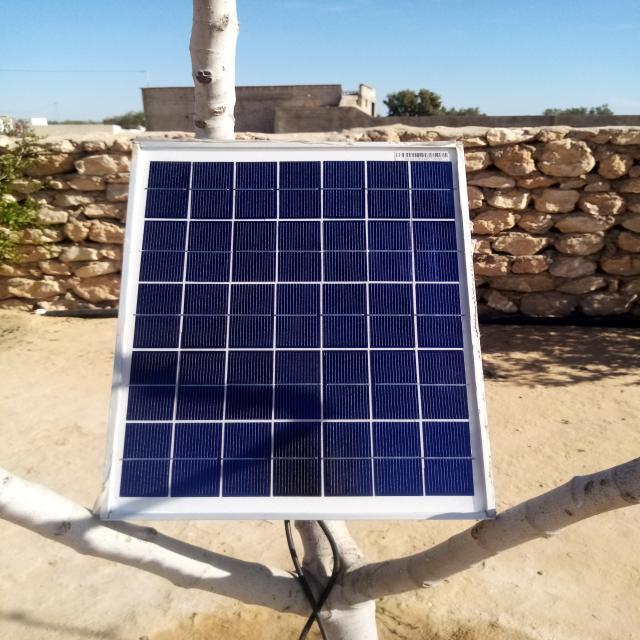Normal Solar Panel: (105, 145, 494, 518)
